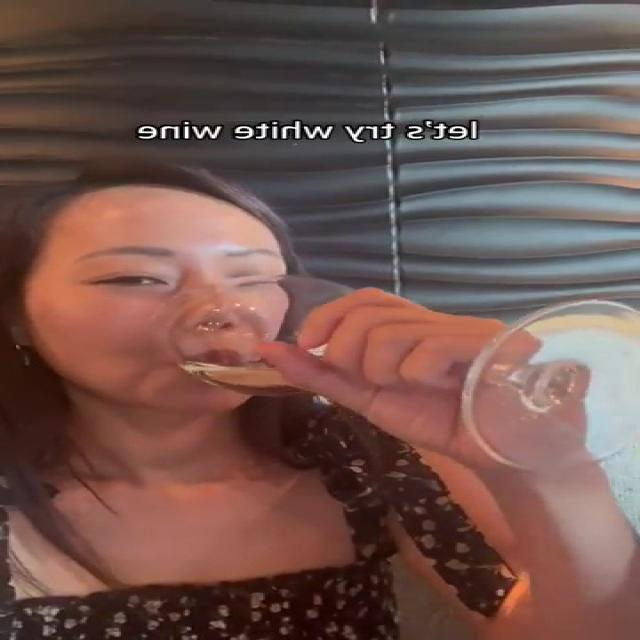Cup: (163, 278, 639, 469)
Hand: (246, 286, 601, 468)
Mouth: (176, 343, 254, 379)
